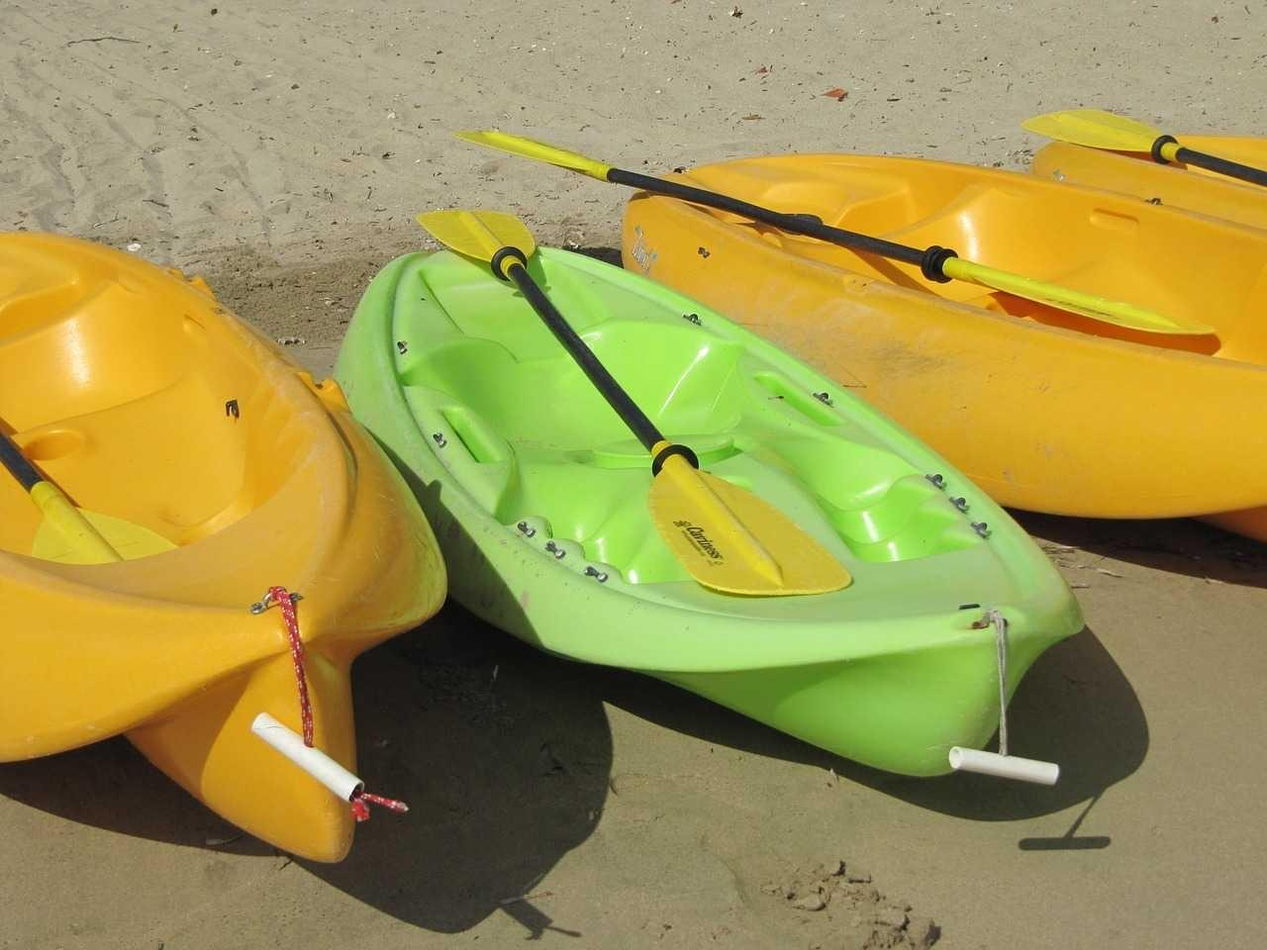kayak: (337, 209, 1084, 784), (621, 138, 1266, 537)
